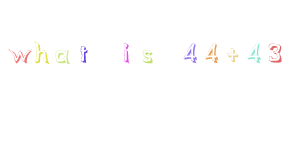+: (225, 47, 240, 63)
3: (266, 40, 282, 63)
4: (181, 41, 198, 64), (203, 41, 220, 64), (246, 41, 262, 63)
a: (54, 49, 71, 63)
h: (33, 40, 50, 64)
i: (119, 40, 134, 64)
s: (140, 48, 154, 65)
t: (76, 43, 90, 63)
w: (7, 45, 31, 64)
